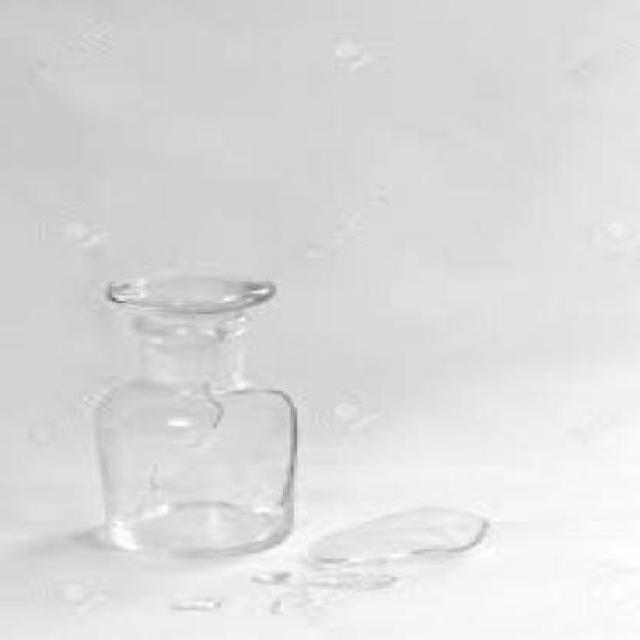kaca: (88, 273, 294, 562), (311, 505, 486, 566), (311, 558, 392, 590), (165, 591, 220, 612), (269, 585, 308, 612), (252, 566, 283, 580)
